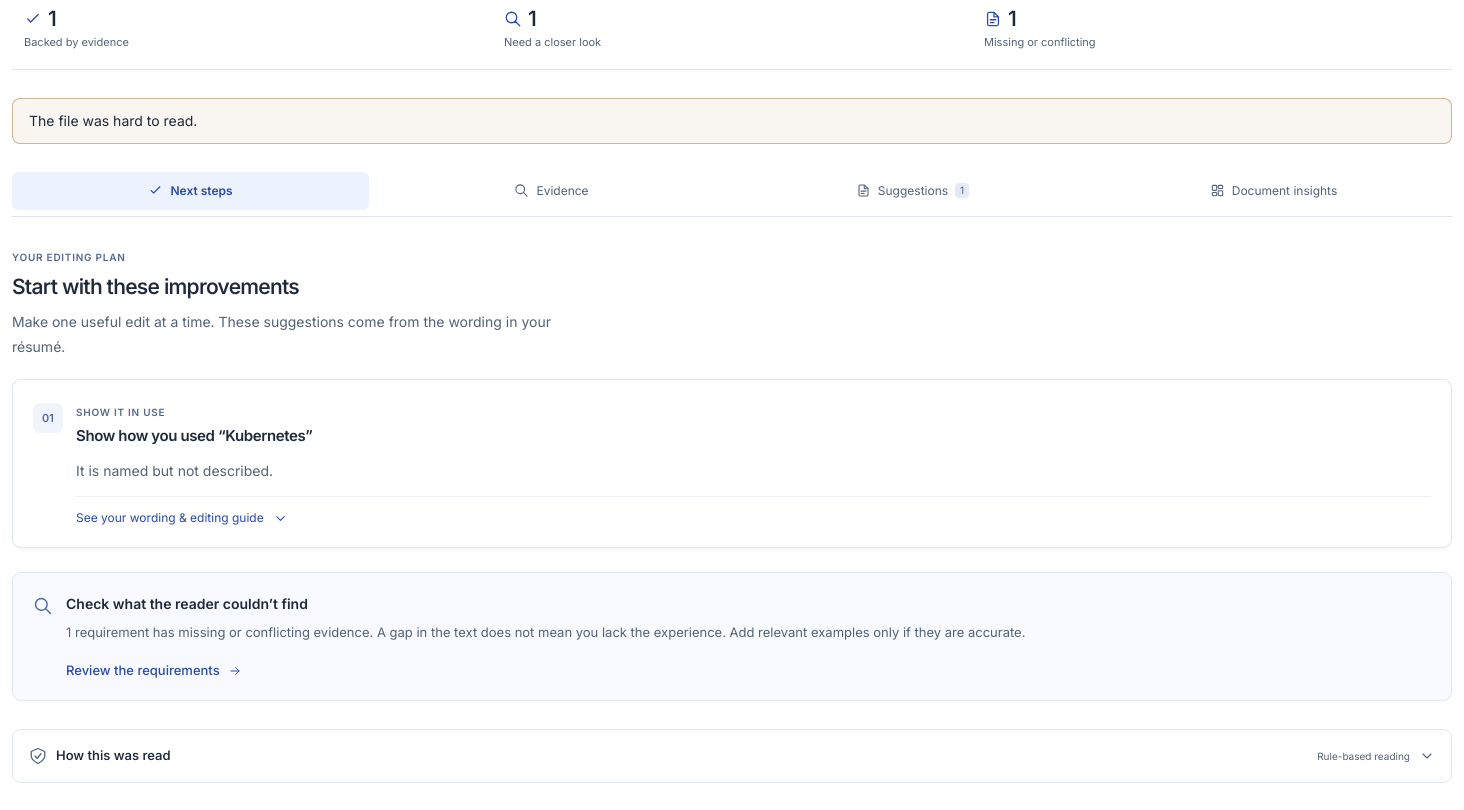
Test case: AnalysisResults › shows the engine and separates evidence, readings and suggestions into focused views
Expected: the heading "How this was read" is shown, [56,746,171,766]
Expected: the text "The file was hard to read." is shown, [29,112,197,128]
Click the tab "Document insights" at (1274, 190), box [1095,172,1452,210]
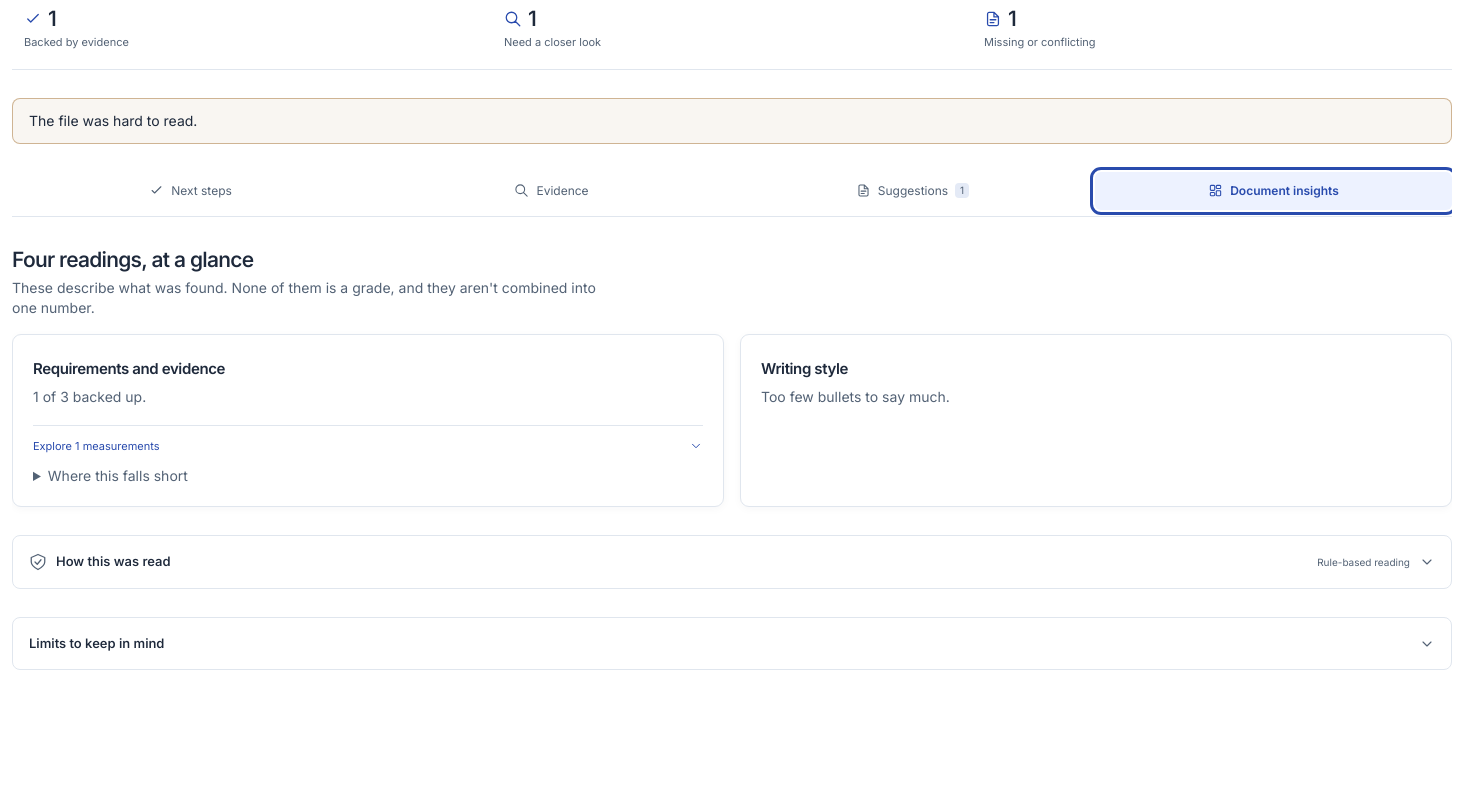
Result: the heading "Four readings, at a glance" is shown at [12,246,253,272]
Click the tab "Suggestions 1" at (912, 190), box [734,172,1091,210]
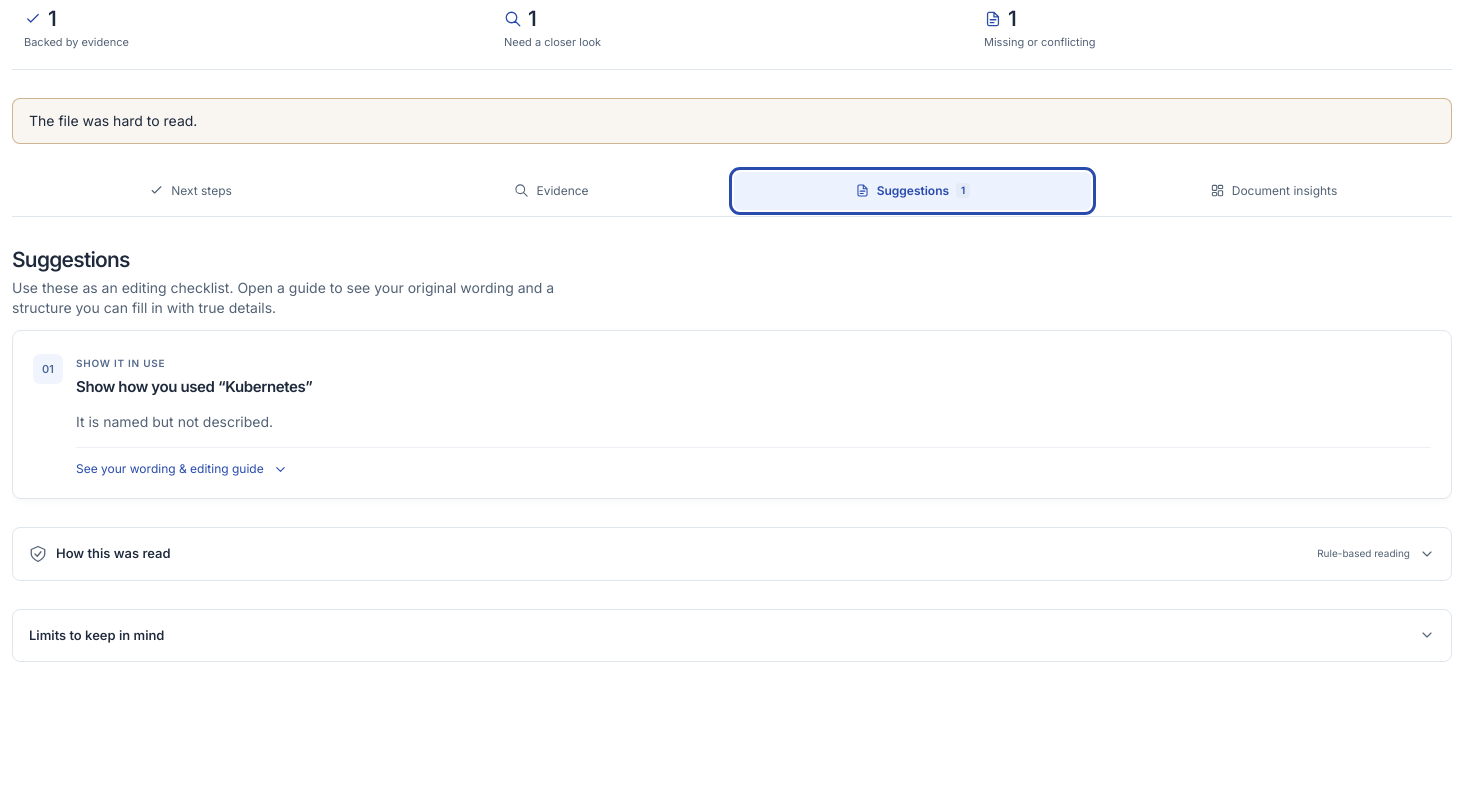
Result: the heading "Suggestions" is shown at [12,246,130,272]
